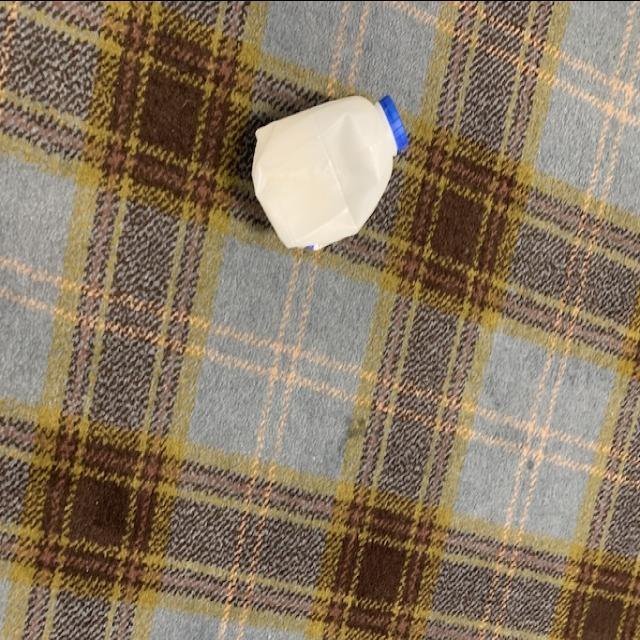HDPEM: (246, 82, 414, 252)
